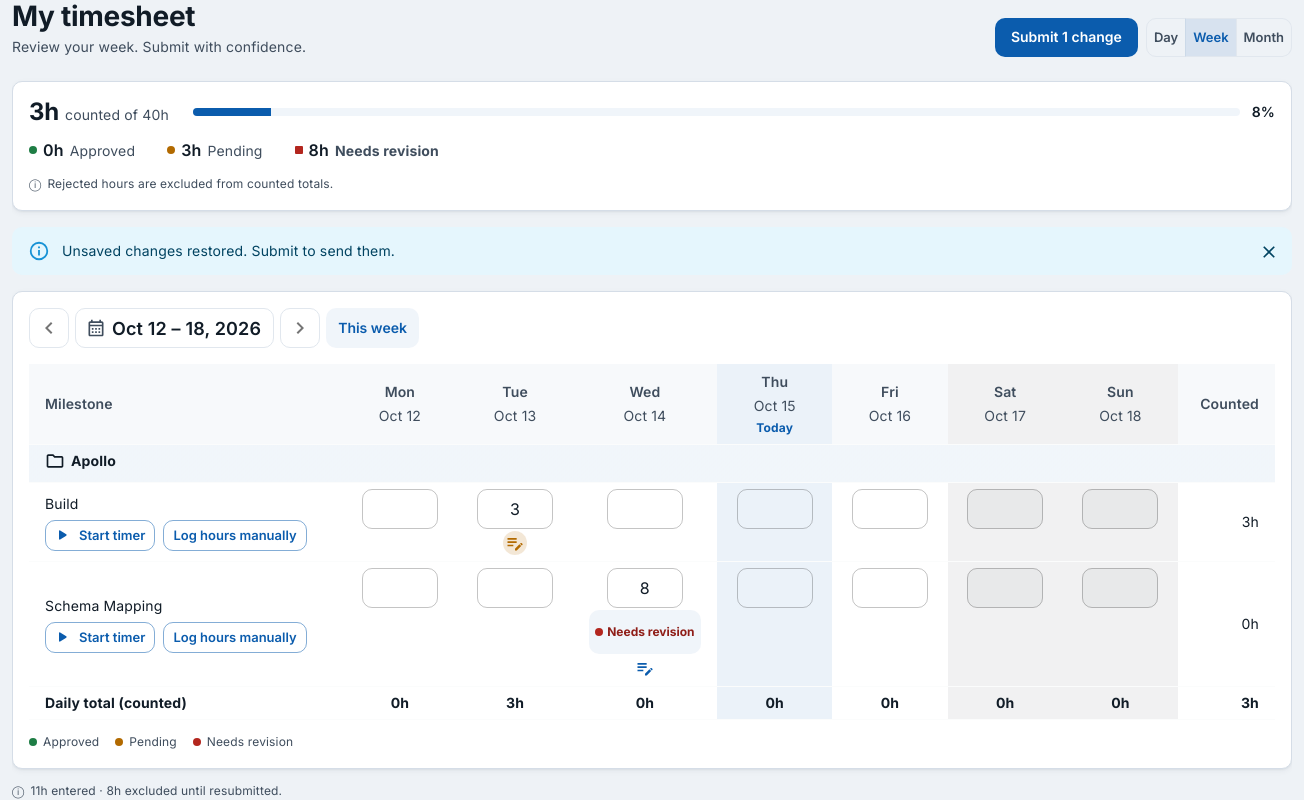
it: restoring after the week changed underneath (Review Focus 3) › a restored cell whose row a later refetch no longer lists leaves Submit and is never sent
Expected: the field named "Build, Tue Oct 13" holds "3", left=477, top=489, right=553, bottom=529
Expected: the button "Submit 1 change" is enabled, left=995, top=18, right=1138, bottom=57
Click the button with aria-label "Needs revision, details for Schema Mapping, Wed Oct 14". click: (645, 632)
box: left=589, top=610, right=701, bottom=654
(page scrolled)
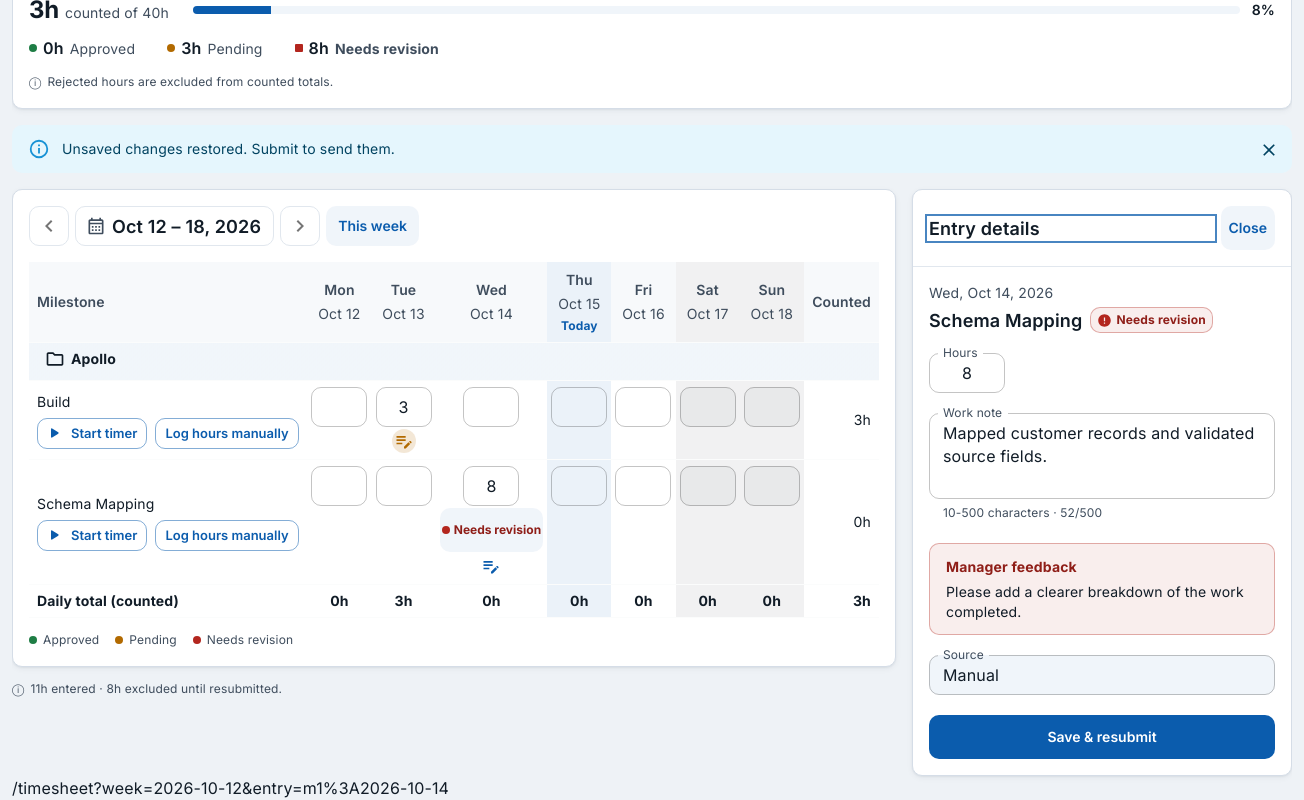
Click the button "Save & resubmit". click: (1102, 737)
box: left=929, top=715, right=1275, bottom=759
(page scrolled)
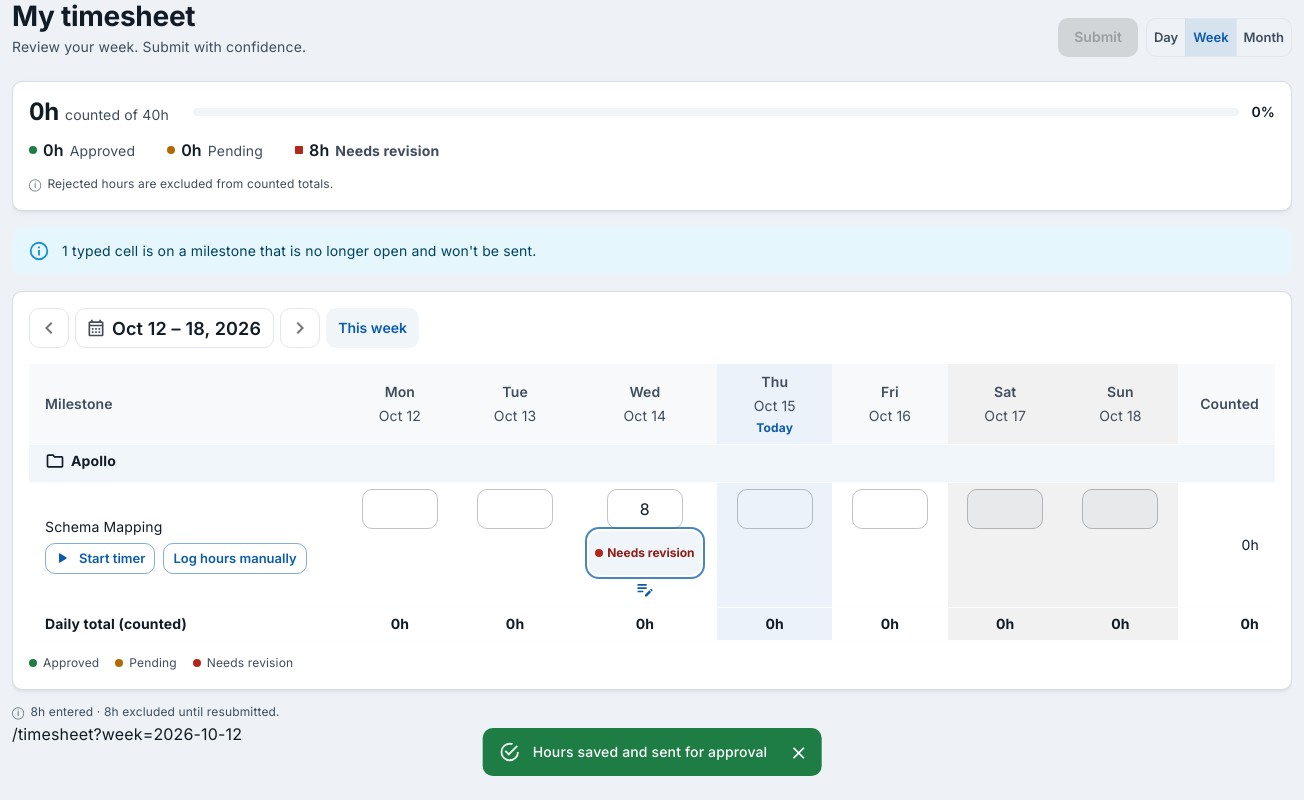
Now the button "Submit" is disabled, box left=1058, top=18, right=1138, bottom=57
Now the text "Unsaved changes restored. Submit to send them." is gone
